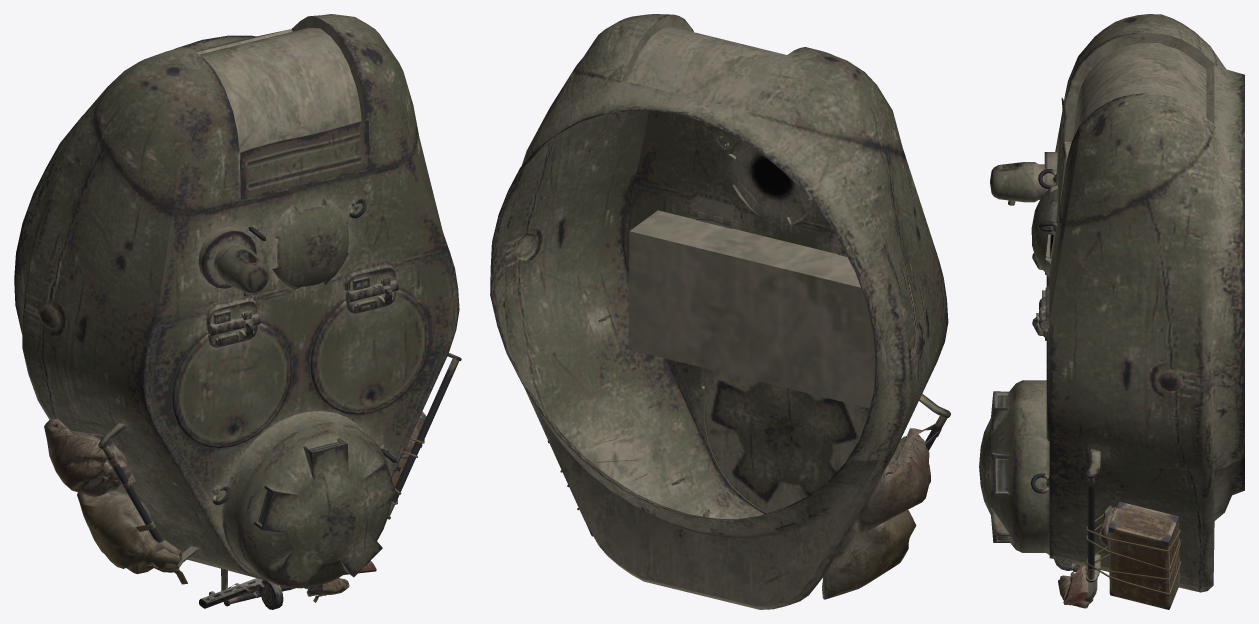
File: Turret_01.glb
The picture shows the model from 3 angles, left to right: view 1: azimuth 30°, elevation 25°; view 2: azimuth 150°, elevation 25°; view 3: azimuth 270°, elevation 25°; orthographic projection. The views are drawn at different scales.
Visible parts, largest first — view 1: set_0_group_0; view 2: set_0_group_0; view 3: set_0_group_0.
Part boxes in pixels (x1,y1,x2,y2): set_0_group_0: (14,14,461,609); set_0_group_0: (490,14,950,609); set_0_group_0: (979,14,1244,609).
Size of the model in its own units: 1.79 by 2.34 by 1.05.
Materials: 1 (1 with a texture image).
